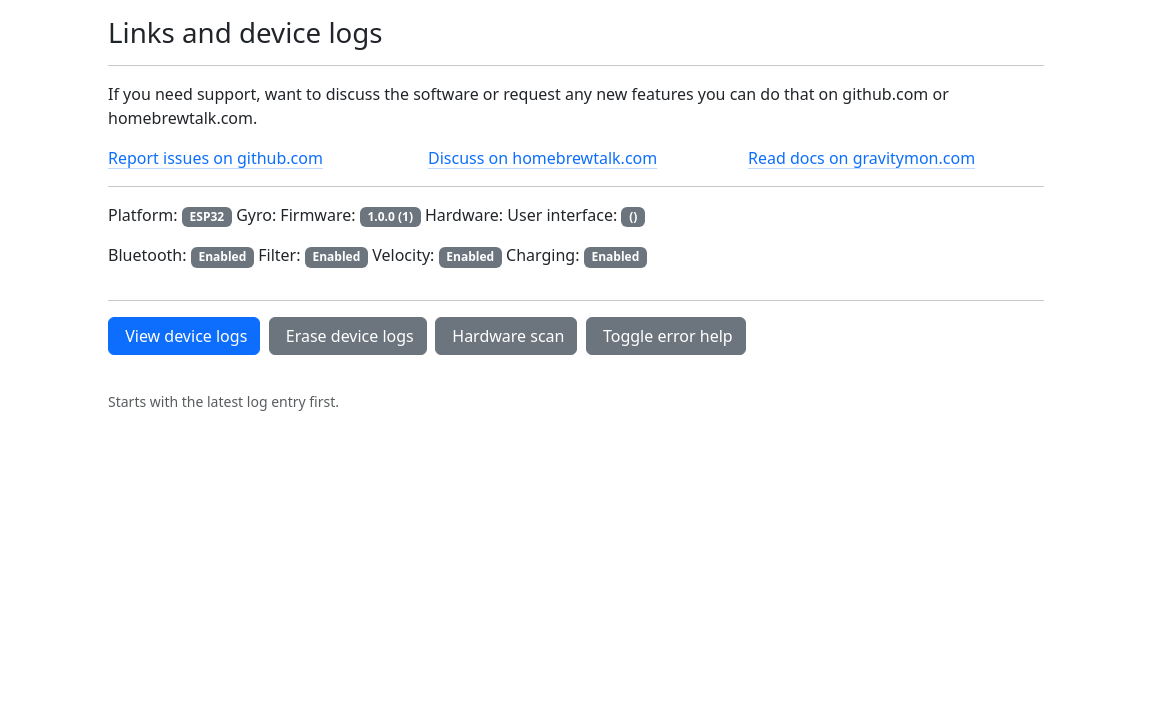
SupportView (action tests) › toggle error help button shows error help section
Check: the text "400 - Bad request" is not shown
Click the button "Toggle error help" at (666, 336), box [586,317,746,355]
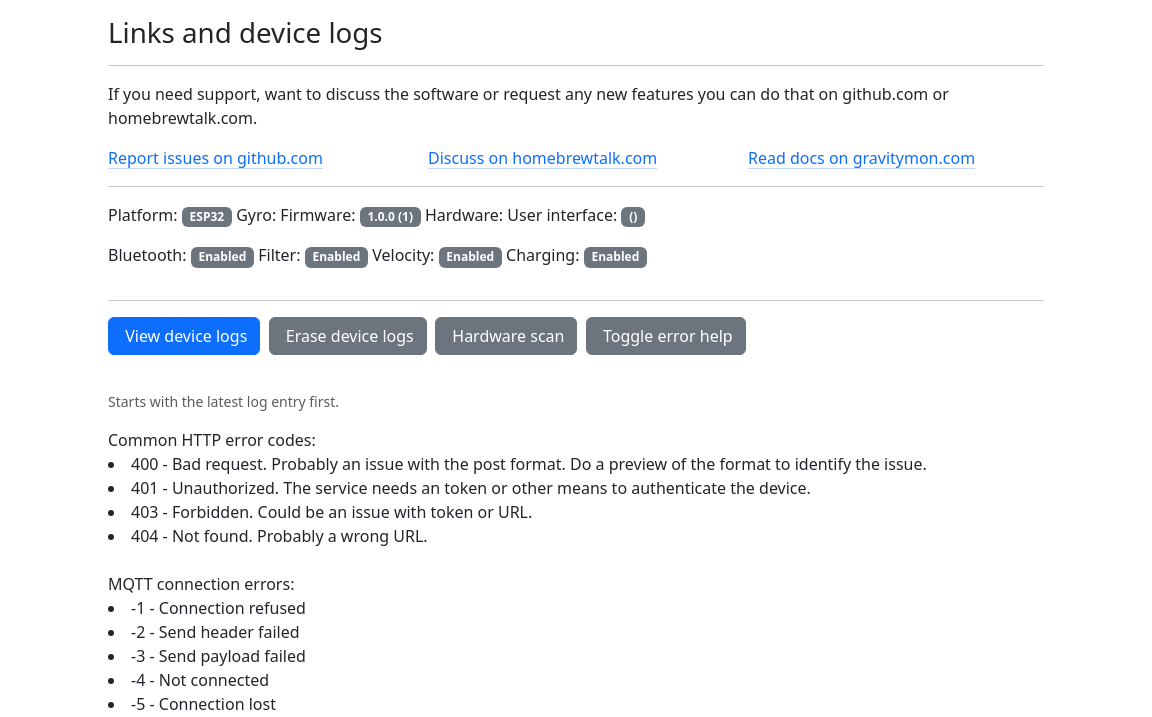
Check: the text "400 - Bad request" is shown, box [131,453,927,475]
